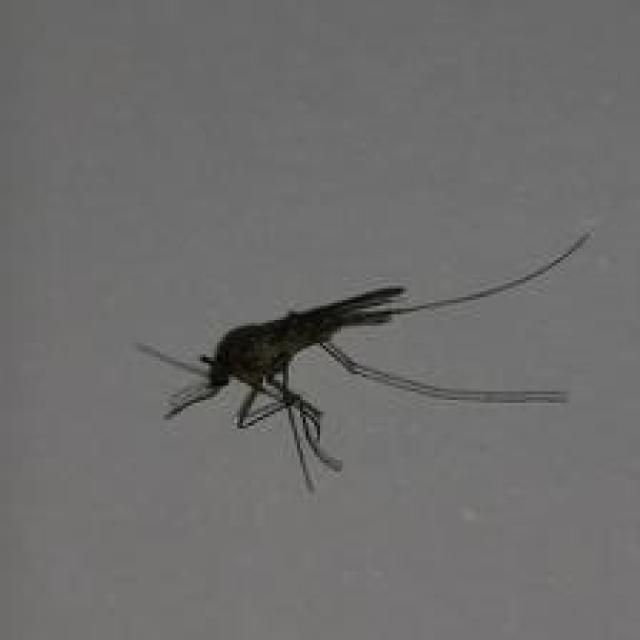Culex: (133, 227, 593, 496)
